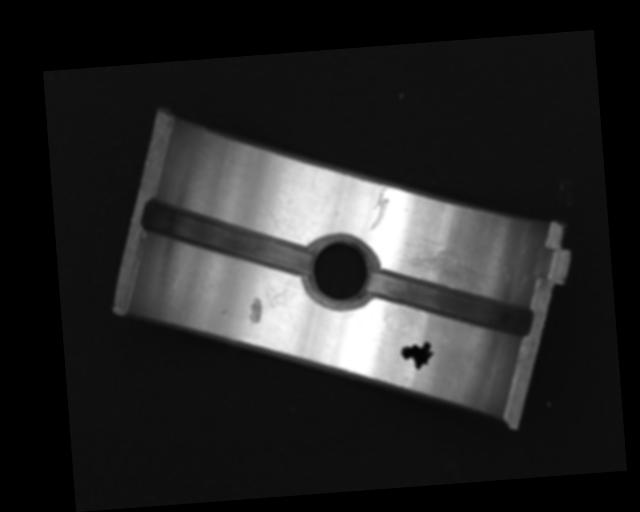blot: (399, 340, 435, 372)
bruise: (246, 296, 263, 325)
gap: (142, 189, 313, 285), (369, 263, 532, 347)
hole: (307, 236, 379, 309)
nick: (365, 185, 391, 231)
scratch: (398, 241, 493, 296)
